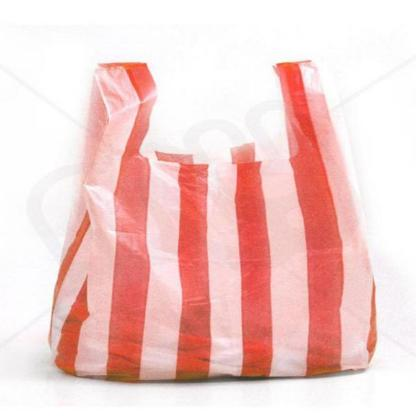Plastic Bag: (53, 54, 380, 393)
